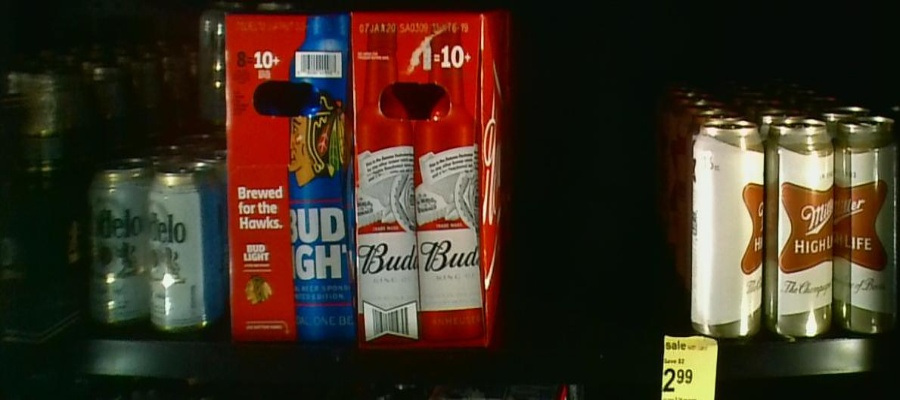bottle: (352, 12, 498, 348), (690, 122, 900, 338), (226, 12, 355, 341), (92, 166, 215, 332)
